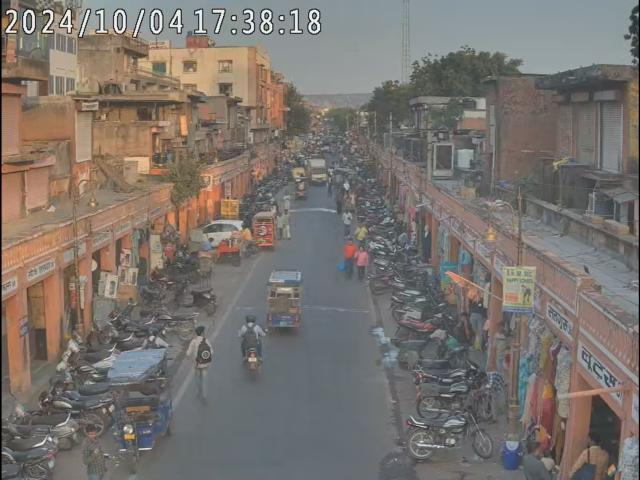auto: (61, 345, 202, 480)
helmet: (245, 315, 259, 326)
motorbike-rider: (263, 268, 303, 335), (239, 313, 270, 381), (628, 0, 640, 71)
person: (521, 437, 558, 480)
